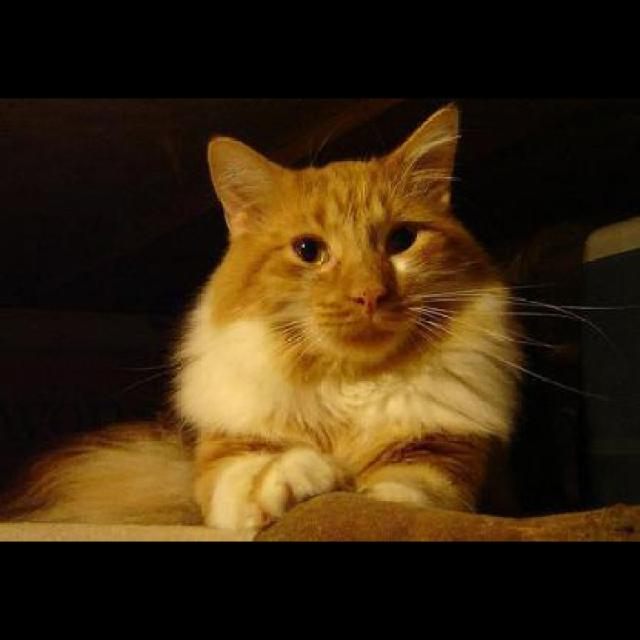unauthorized: (0, 99, 634, 532)
